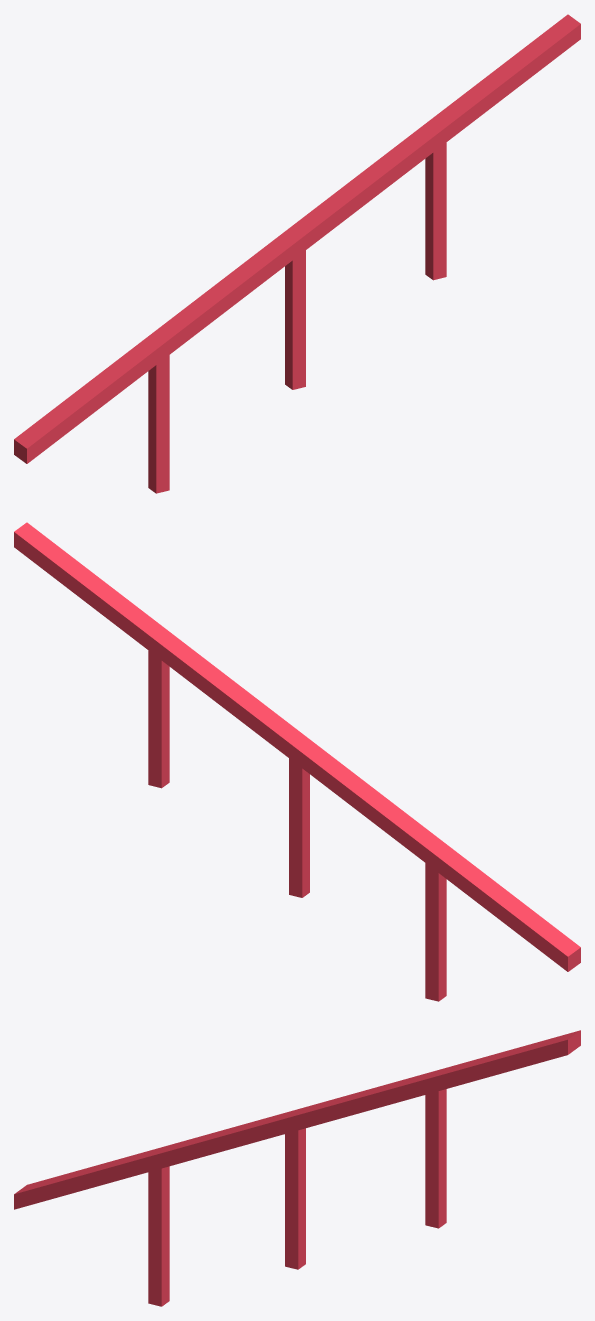
File: StairRail.fbx
3 views of the same model, one above another, from view 1: azimuth 30°, elevation 25°; view 2: azimuth 150°, elevation 25°; view 3: azimuth 330°, elevation 25° (orthographic).
Visible parts, largest first — view 1: StairRailing; view 2: StairRailing; view 3: StairRailing.
Part boxes in pixels (box(x1,y1,x2,y2)): StairRailing: box(14, 14, 580, 493); StairRailing: box(14, 522, 580, 1001); StairRailing: box(14, 1030, 580, 1306).
Size of the model in its own units: 400 by 254 by 16.25.
